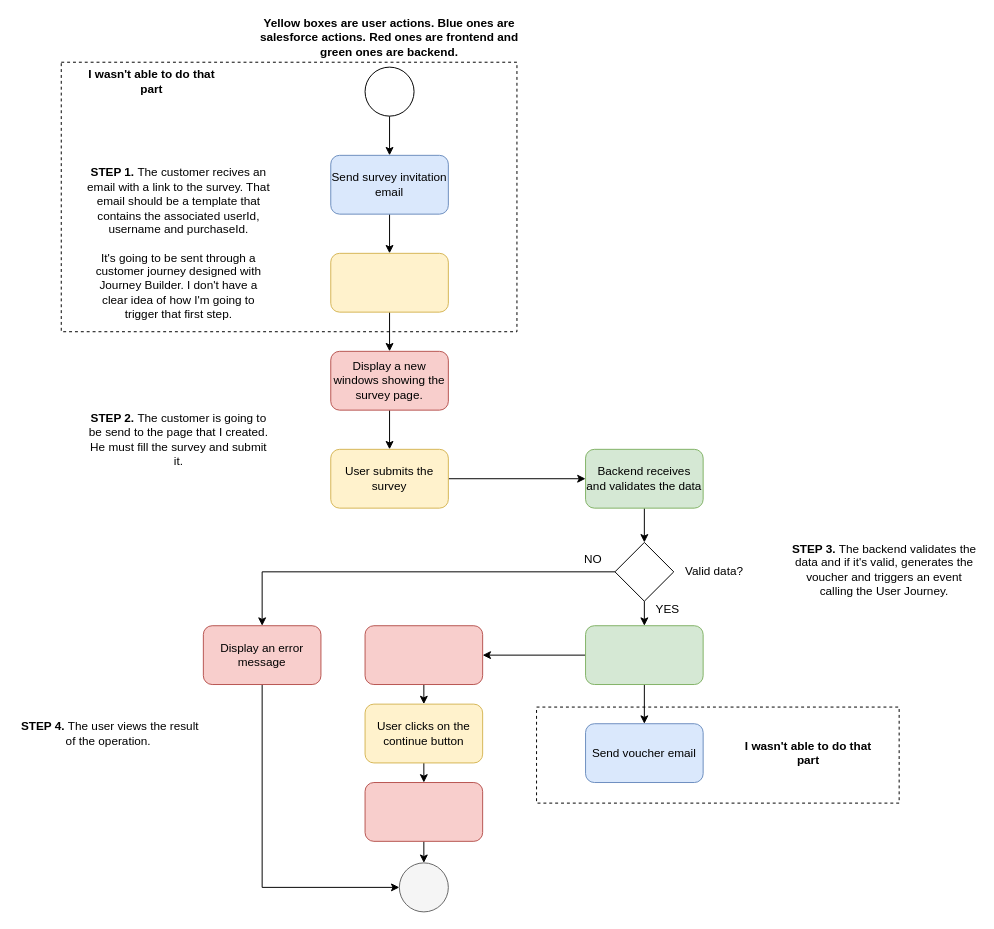
The diagram is 994 pixels wide and 929 high, and some of its shapes have lost their labels. Here are the shapes that lost their labels. From the top down, the box of each, then its label:
(330, 252, 448, 312): User clicks on the email
(364, 625, 483, 685): Display a success message with the voucher and a continue button
(585, 625, 703, 685): Store data, create and store voucher. Trigger user journey.
(364, 782, 483, 841): Redirect to nike.com
